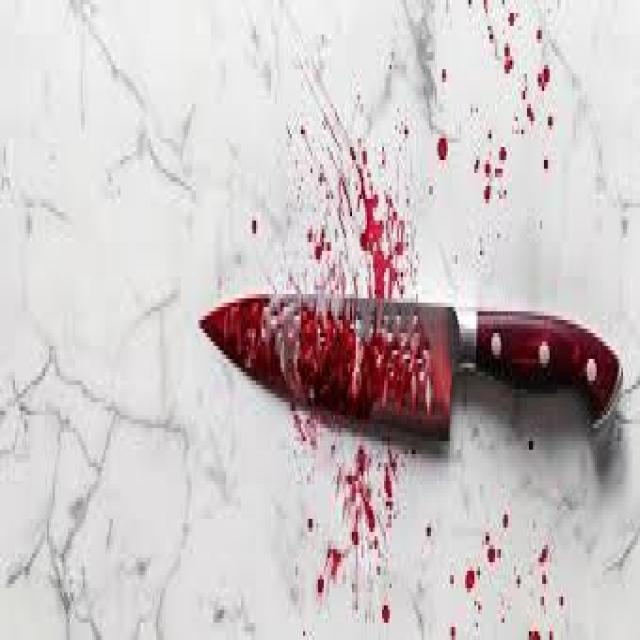Knife: (198, 285, 623, 437)
